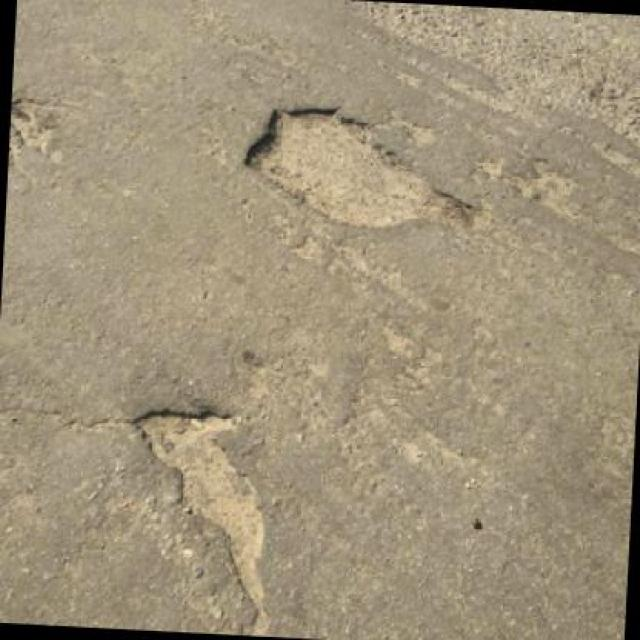pothole: (121, 402, 287, 636), (232, 96, 494, 242), (8, 94, 63, 169)
